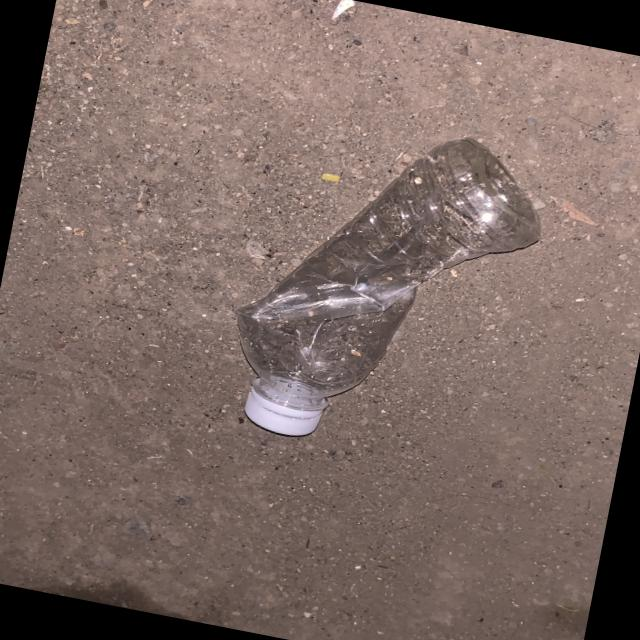Bottle: (236, 139, 540, 437)
